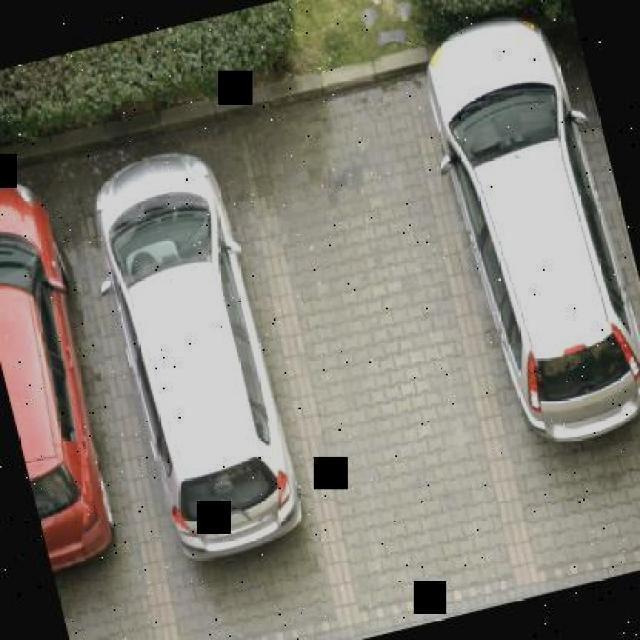Car: (84, 141, 329, 614), (411, 0, 640, 480), (0, 164, 132, 584)
Vacant: (249, 80, 523, 606)
